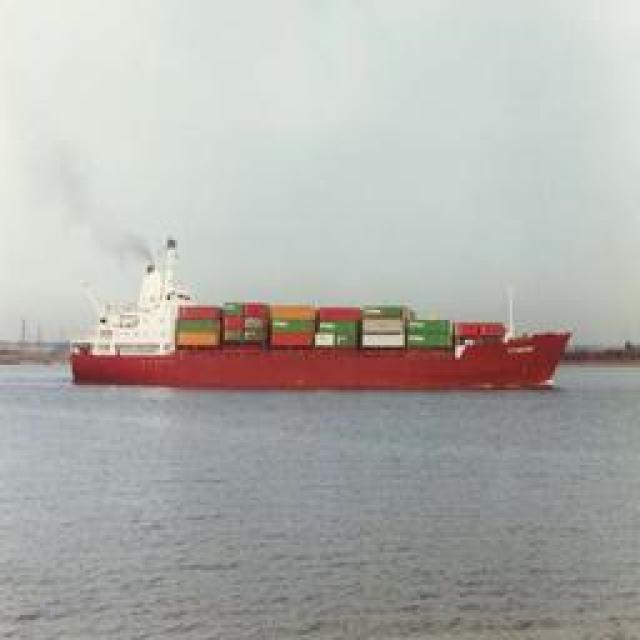CIV_Ship: (58, 264, 560, 394)
